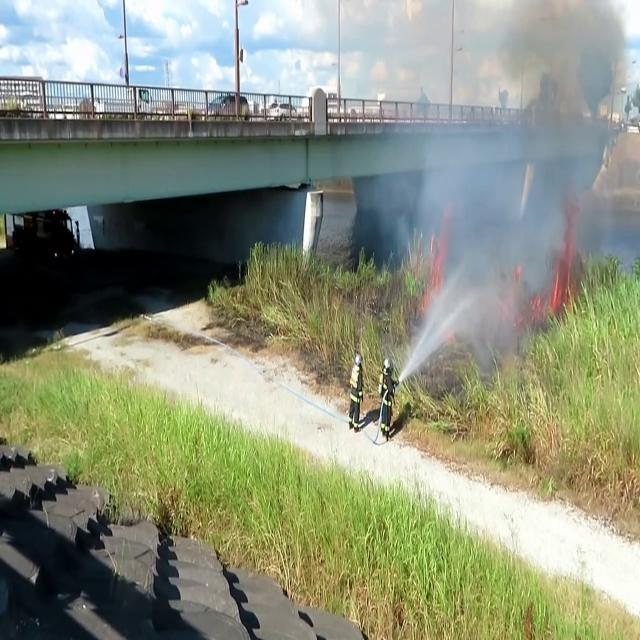Smoke: (389, 0, 634, 372)
